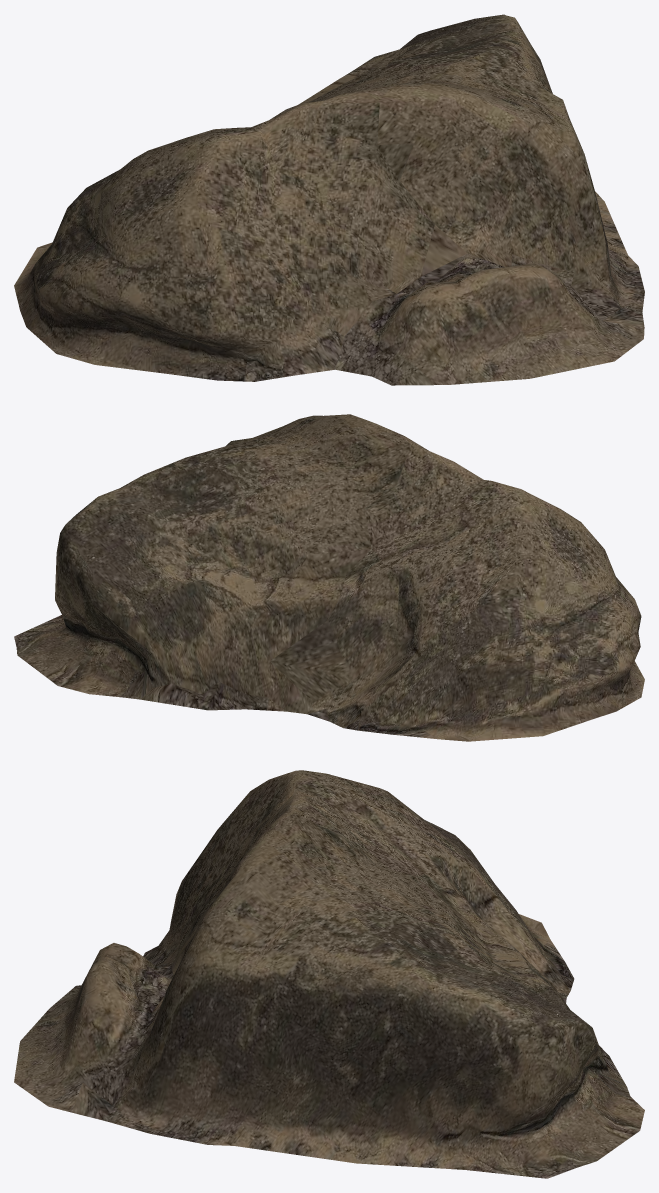
File: boulder4.glb
3 renders of one model, top to bottom at view 1: azimuth 30°, elevation 25°; view 2: azimuth 150°, elevation 25°; view 3: azimuth 270°, elevation 25°, orthographic. The views are drawn at different scales.
Visible parts, largest first — view 1: Rock Dry River PBR Scan Part 02; view 2: Rock Dry River PBR Scan Part 02; view 3: Rock Dry River PBR Scan Part 02.
Part boxes in pixels (x1=…): Rock Dry River PBR Scan Part 02: x1=14, y1=14, x2=644, y2=385; Rock Dry River PBR Scan Part 02: x1=14, y1=414, x2=644, y2=741; Rock Dry River PBR Scan Part 02: x1=14, y1=770, x2=644, y2=1178.
Bounding box in the file's own units: 3.27 × 1.08 × 2.95.
1 material, 1 textured.
